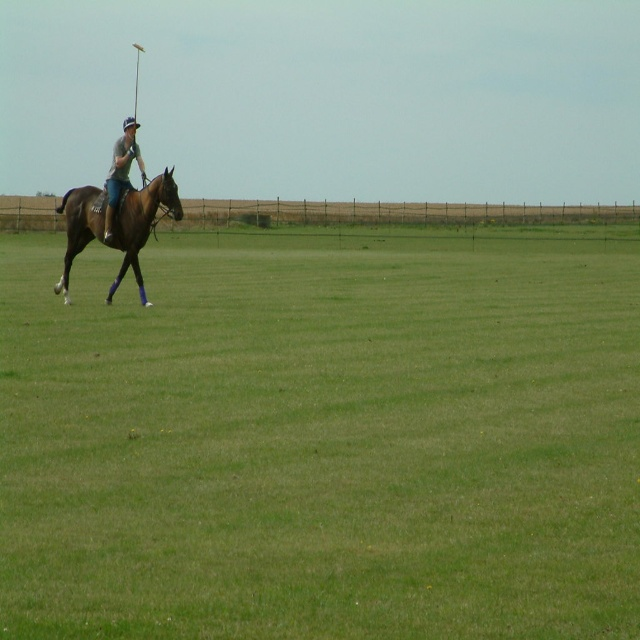Horse: (54, 164, 183, 308)
